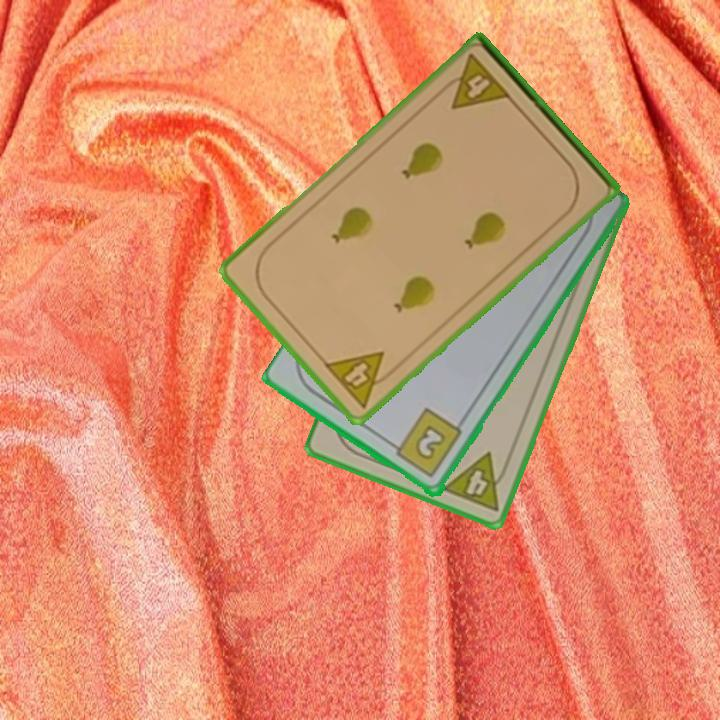2b: (386, 405, 465, 481)
4p: (320, 347, 401, 411), (435, 50, 514, 113), (438, 449, 514, 514)
